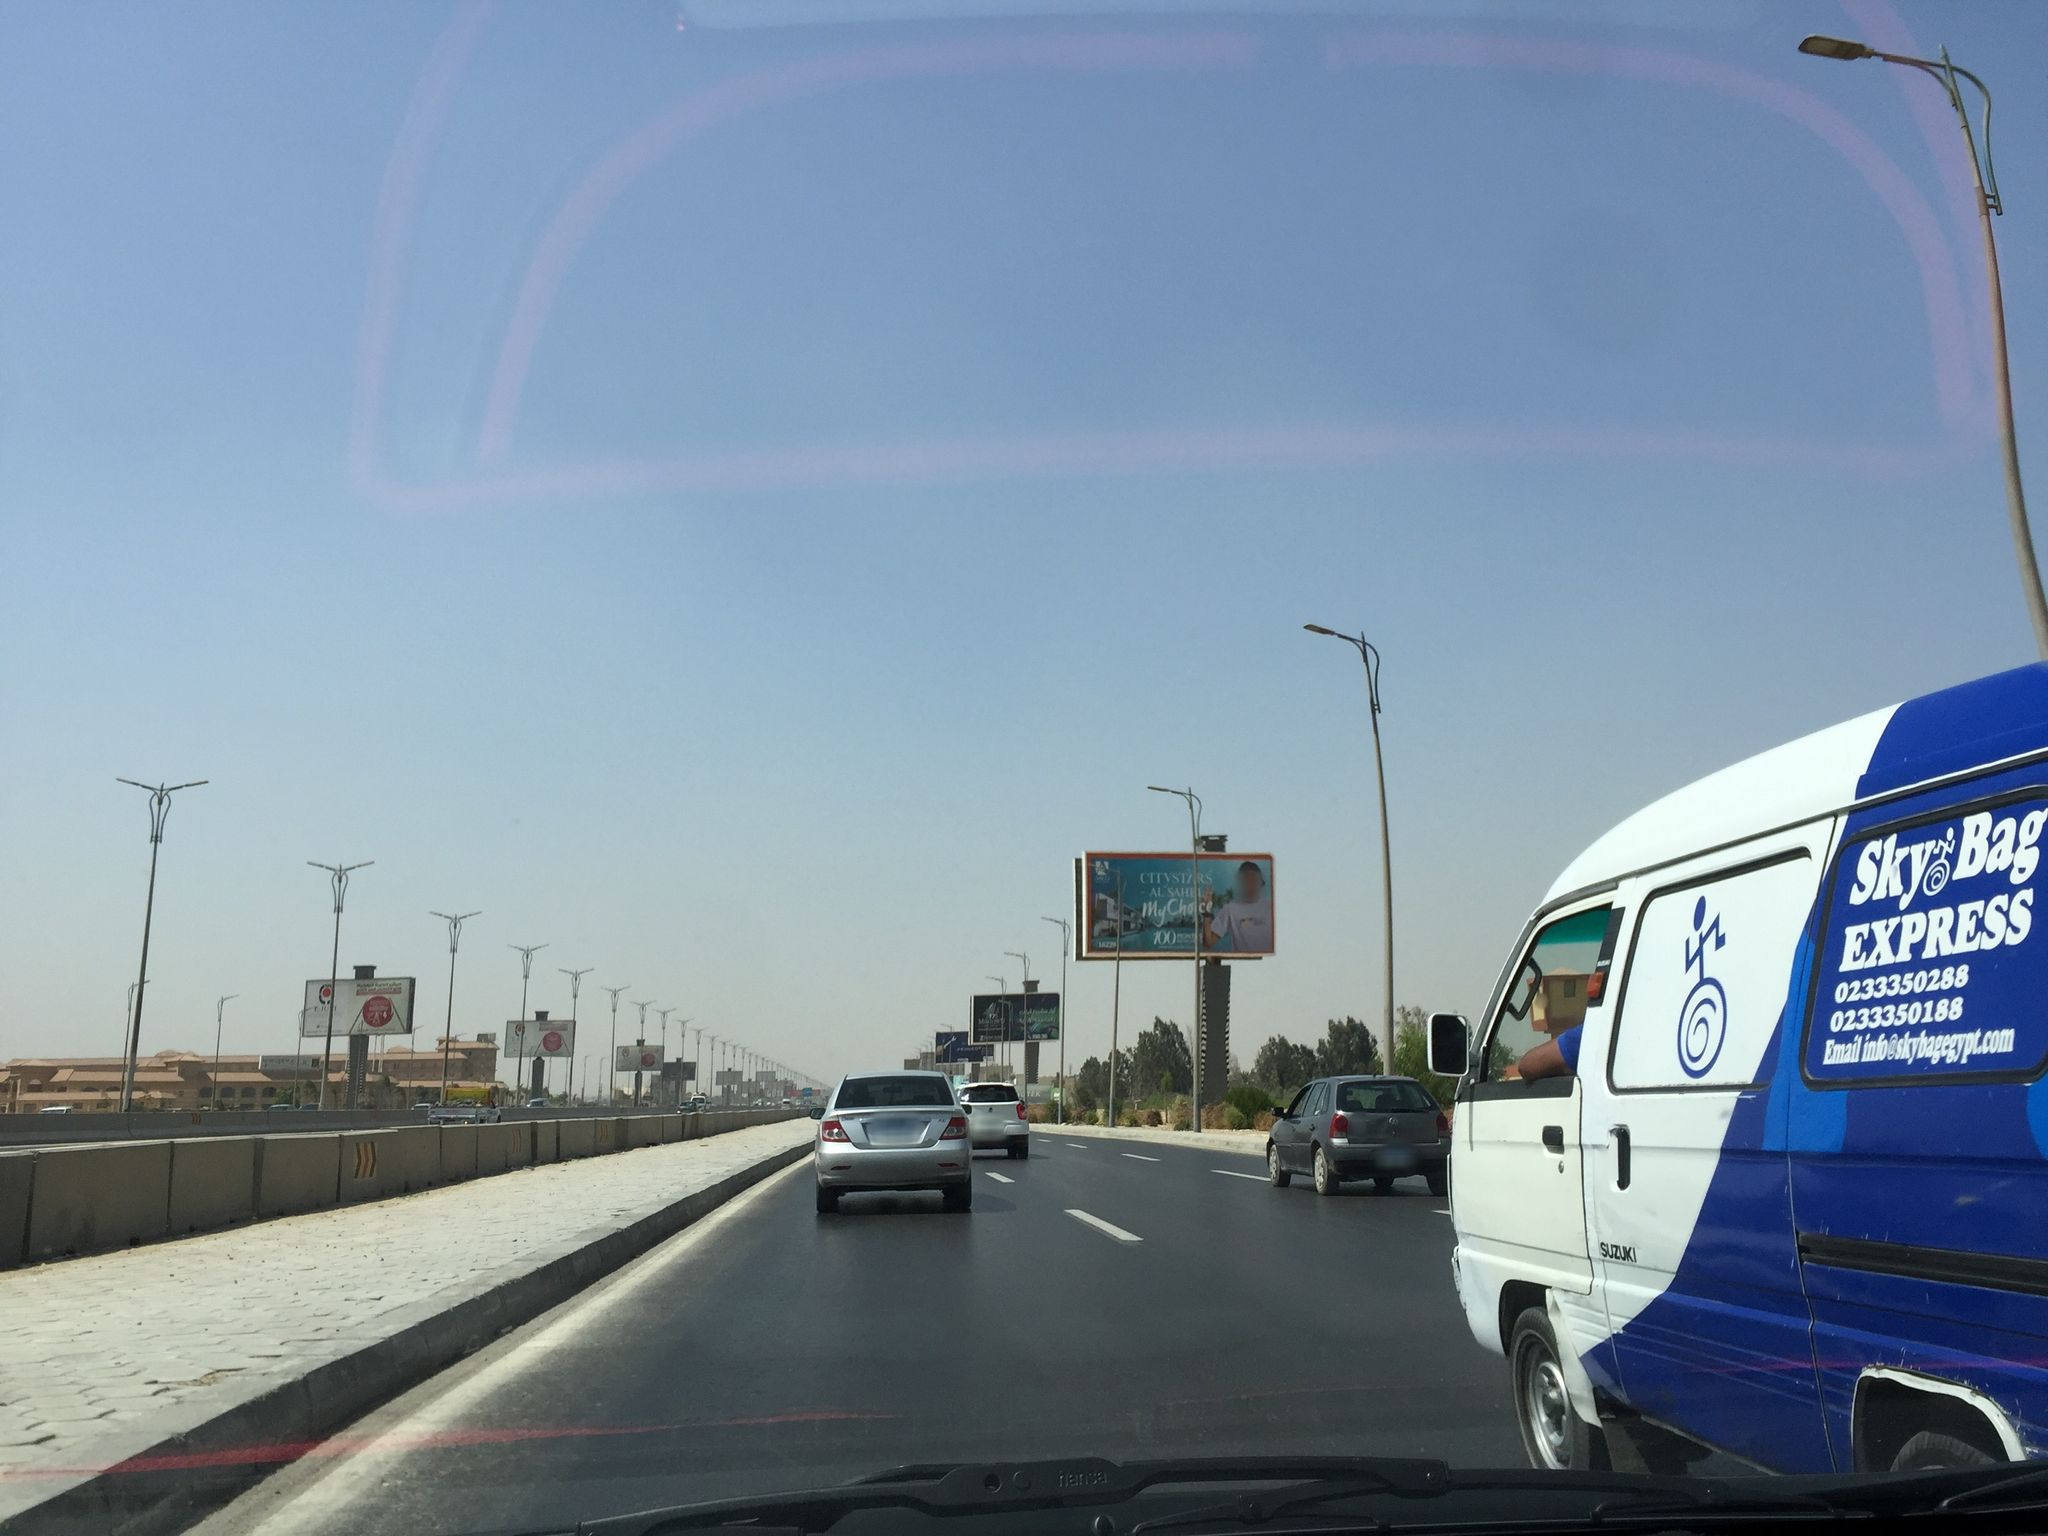car: (1426, 650, 2048, 1475), (808, 1068, 976, 1213), (1263, 1070, 1450, 1191), (955, 1081, 1030, 1158)
truck: (426, 1084, 502, 1125)
